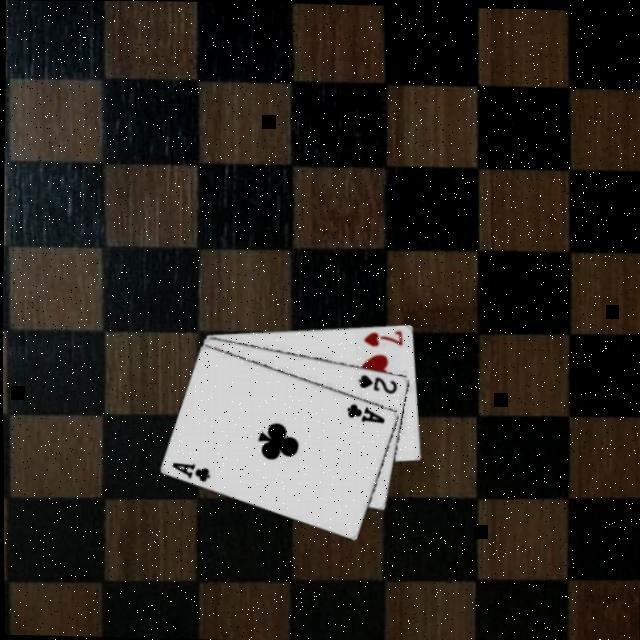2S: (356, 368, 400, 392)
7H: (362, 324, 406, 346)
AC: (344, 397, 388, 423), (170, 456, 214, 482)
